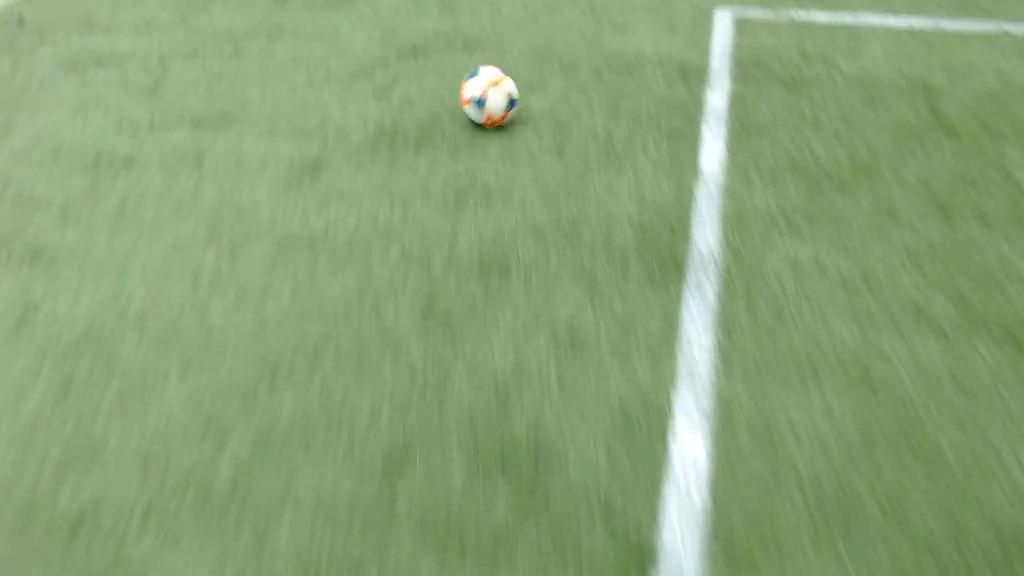ball: (462, 63, 518, 130)
